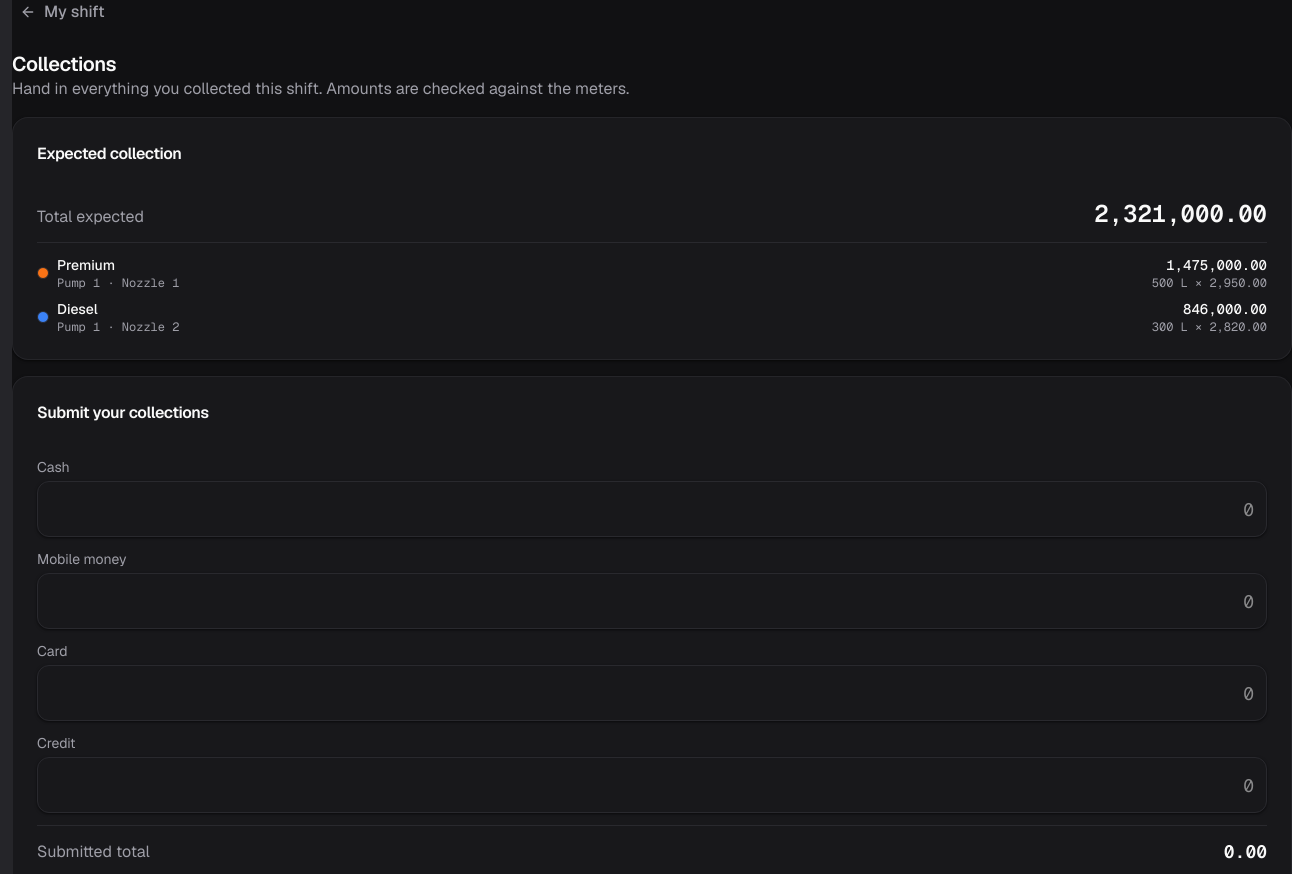
Test case: CollectionsPage › live-calculates a SHORTAGE (text + danger) and requires a reason
Type "2320000" into the field labelled "Cash" at (652, 509), box left=37, top=481, right=1267, bottom=537
(page scrolled)
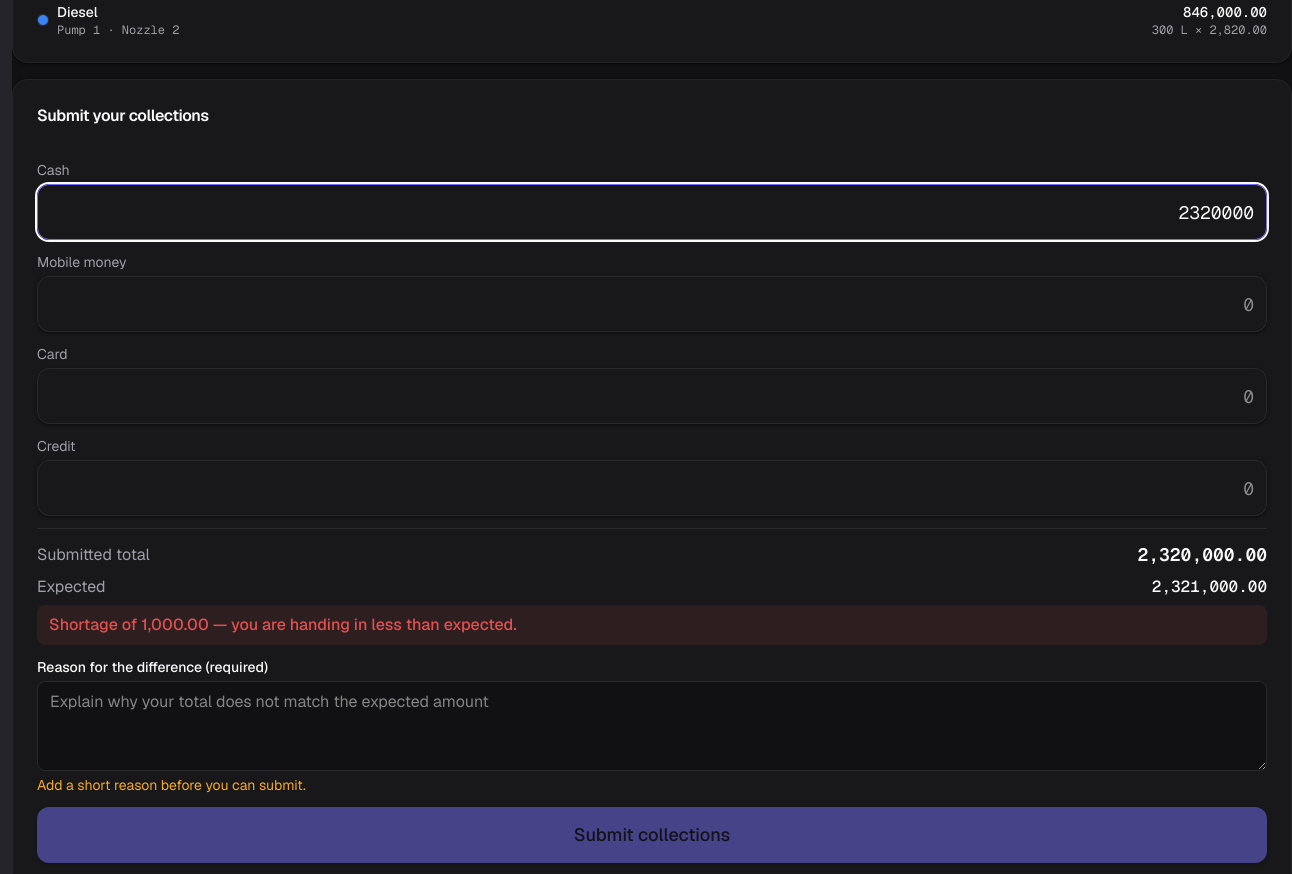
Expected: the button "Submit collections" is disabled, left=37, top=807, right=1267, bottom=863
Now the text "Shortage of 1,000.00 — you are handing in less than expected." is shown, box left=37, top=605, right=1267, bottom=645
Type "A customer drove off" into the text box labelled "Reason for the difference (required)" at (652, 726), box left=37, top=681, right=1267, bottom=771
(page scrolled)
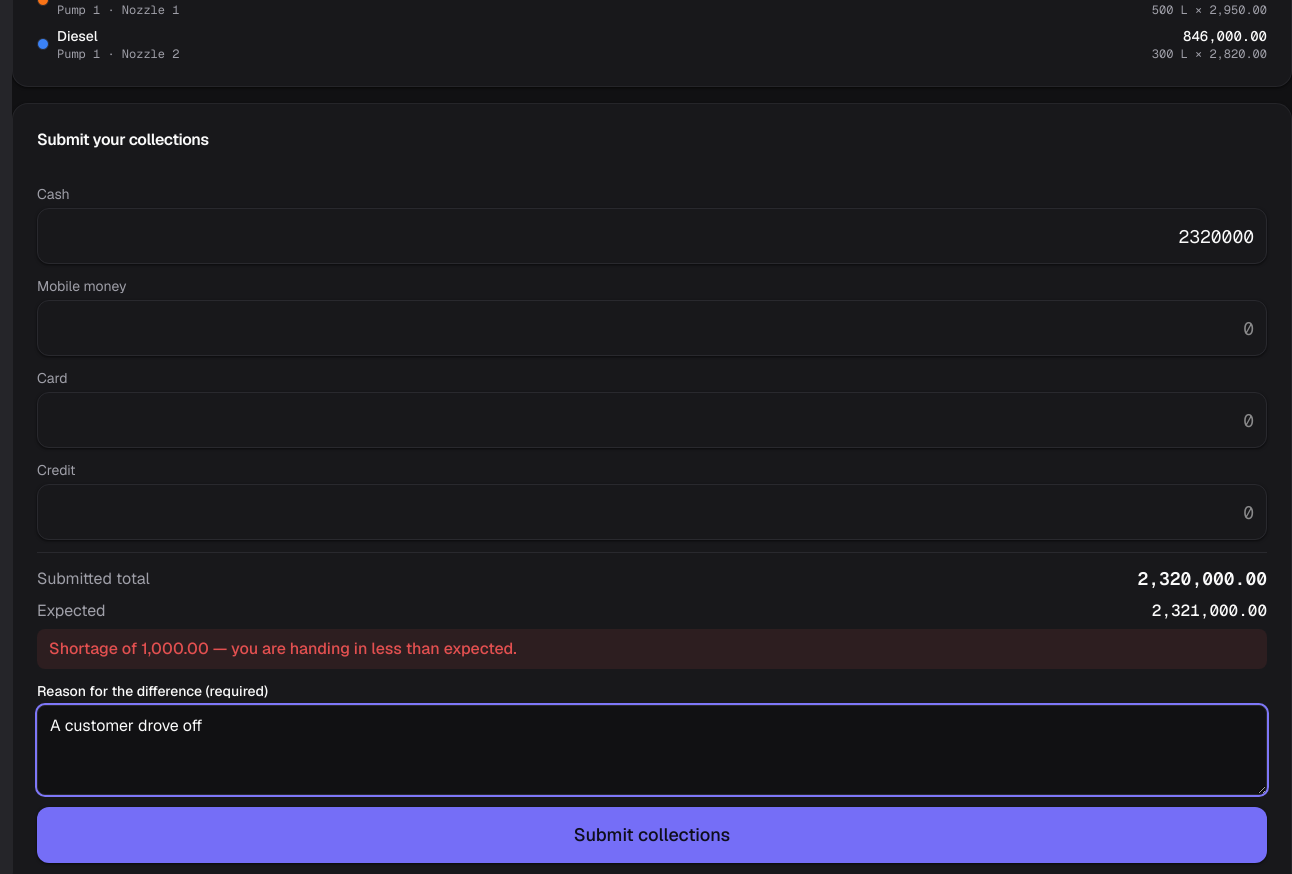
Now the button "Submit collections" is enabled, box left=37, top=807, right=1267, bottom=863
